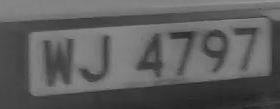4: (131, 27, 169, 84)
7: (165, 24, 201, 81), (229, 19, 264, 74)
9: (198, 23, 233, 78)
J: (75, 29, 122, 88)
W: (36, 30, 81, 96)
